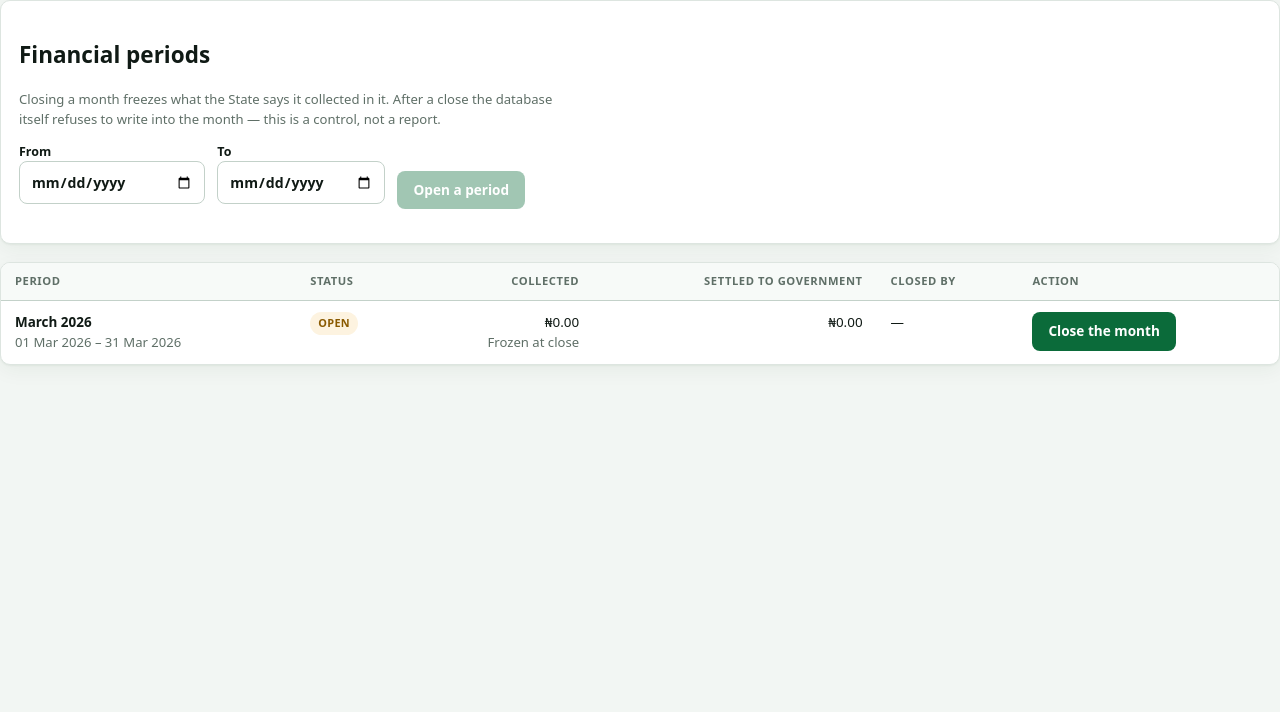
Test: closing a month you cannot see › asks for nothing extra when the month is settled and known to be
Click the button "Close the month" at x=1104, y=331, box 1032,312 -> 1176,351
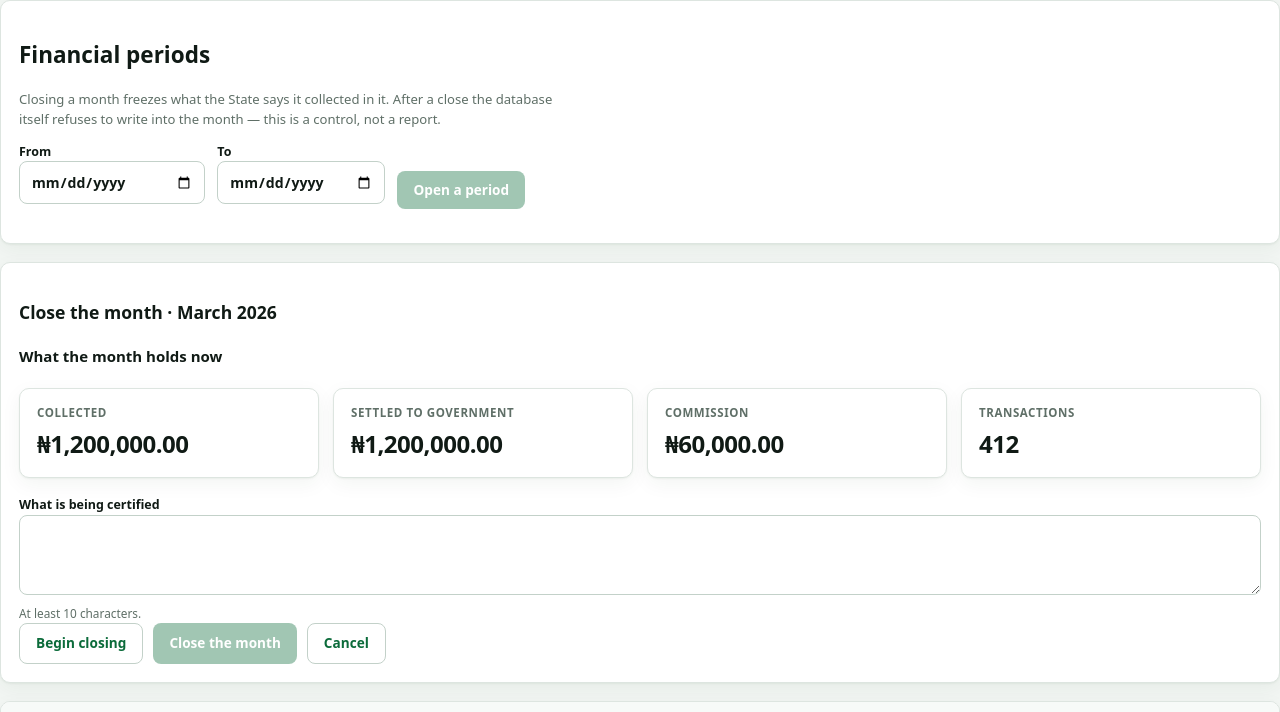
Result: the text box labelled "What is being certified" is shown at 19,515 -> 1261,595
